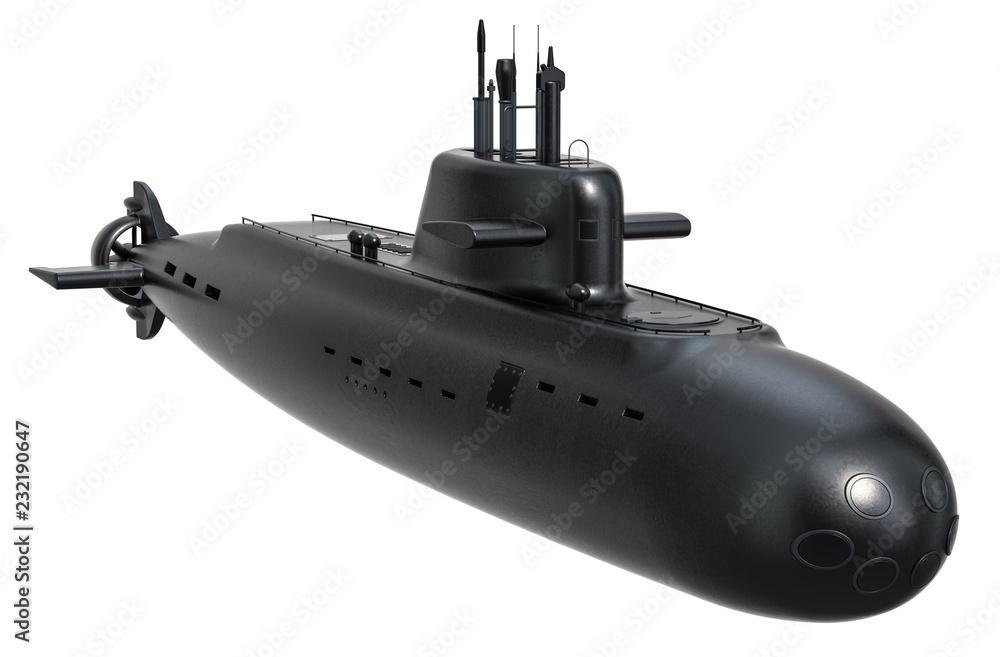Submarine: (40, 18, 1000, 589)
